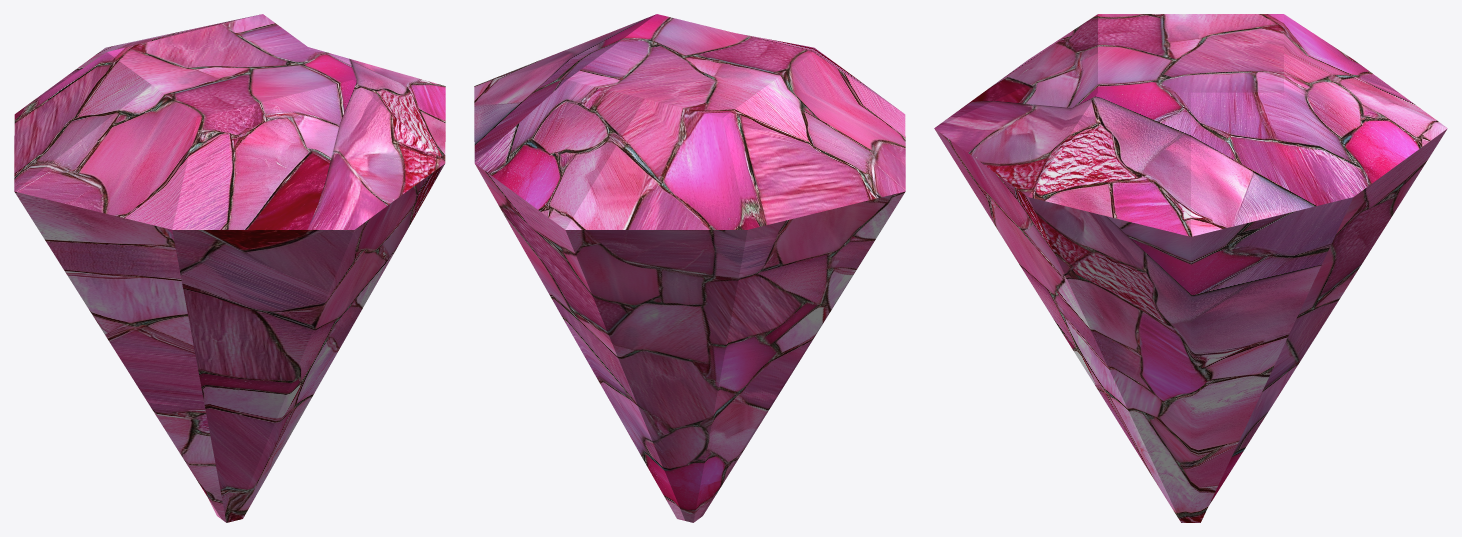
Rendered from gemstone3Pink.glb.
3 views of the same model, side by side, from view 1: azimuth 30°, elevation 25°; view 2: azimuth 150°, elevation 25°; view 3: azimuth 270°, elevation 25° (orthographic). The views are drawn at different scales.
Visible parts, largest first — view 1: gemstone2; view 2: gemstone2; view 3: gemstone2.
Boxes of the visible parts, bbox=[...] form: gemstone2: bbox=[14, 14, 445, 522]; gemstone2: bbox=[474, 14, 905, 522]; gemstone2: bbox=[934, 14, 1447, 522].
Bounding box in the file's own units: 1 × 1 × 1.
1 material, 1 textured.
